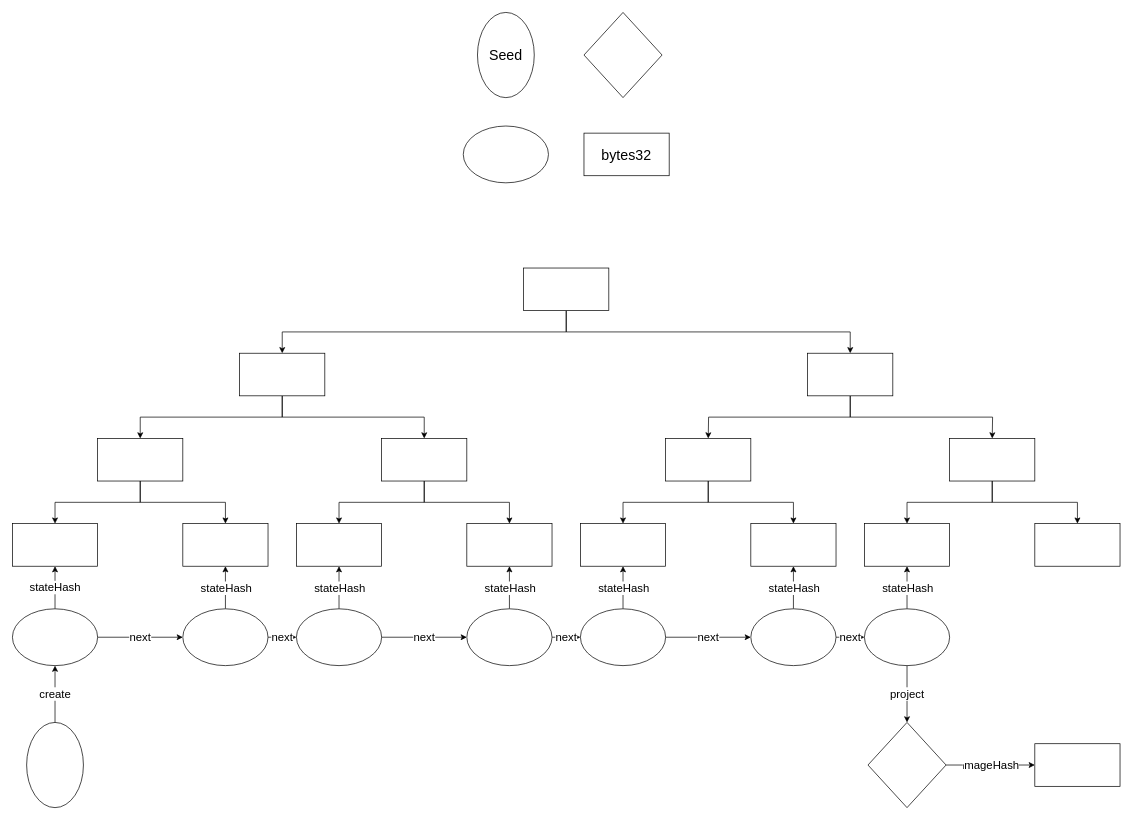
Some shapes in this 1132 by 820 pixel diagram are drawn without their labels. Each missing label, with the box of its shape:
Image: (583, 12, 662, 98)
State: (463, 125, 548, 183)
